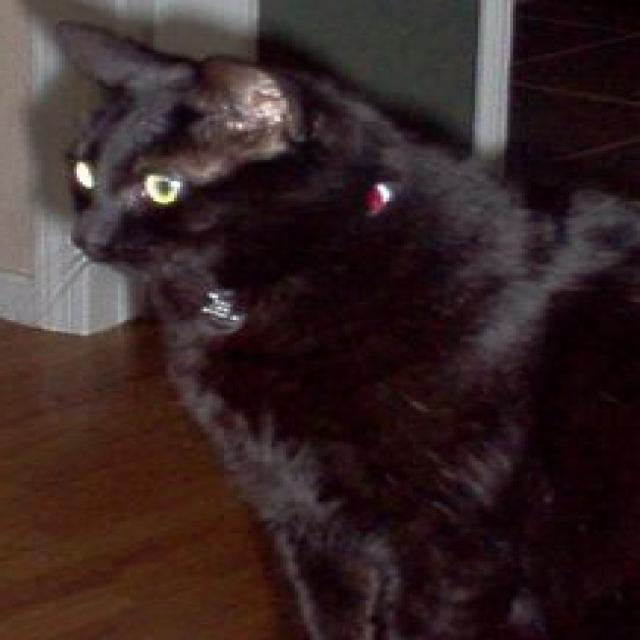Bombay: (47, 11, 640, 640)
